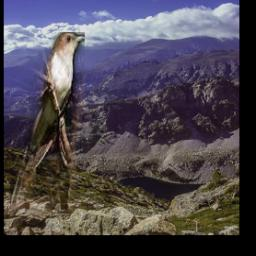Cuckoo: (11, 32, 86, 210)
